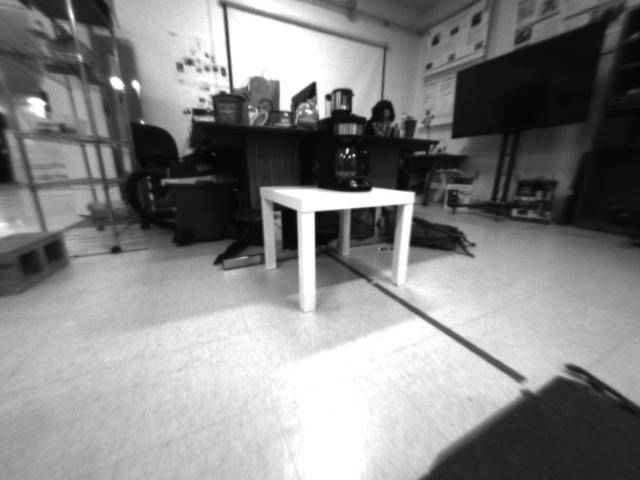coffee_pot: (314, 114, 379, 194)
